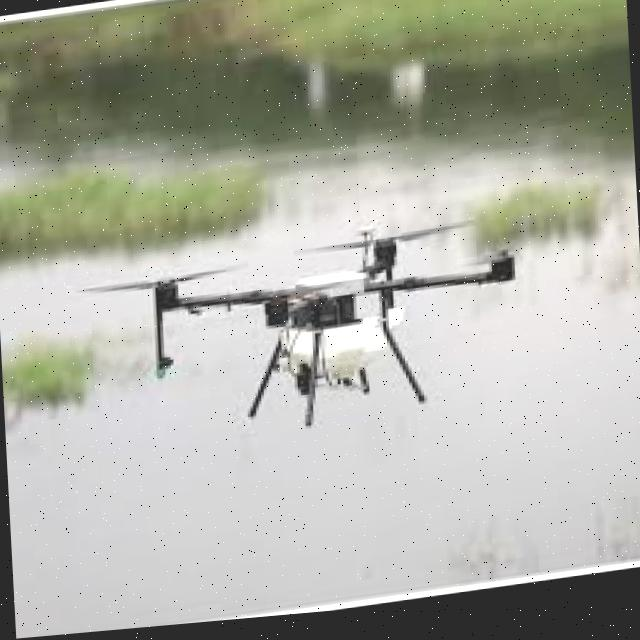drone: (74, 197, 550, 482)
